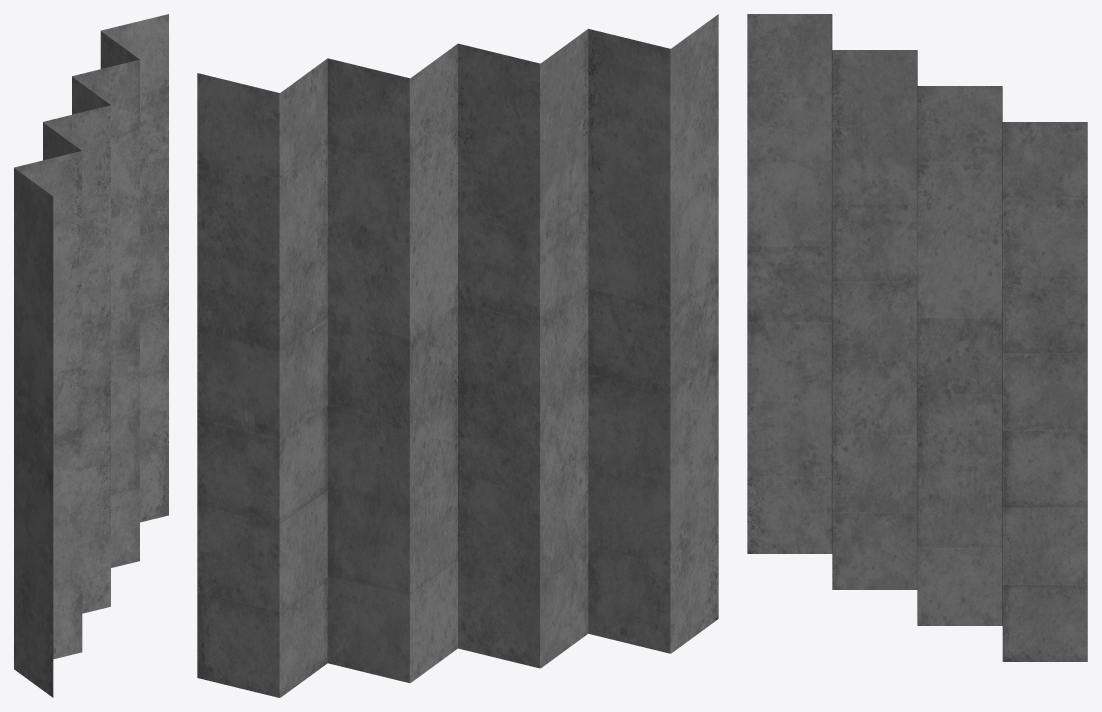
File: SM_Wall_26.fbx
3 renders of one model, left to right at view 1: azimuth 30°, elevation 25°; view 2: azimuth 150°, elevation 25°; view 3: azimuth 270°, elevation 25°, orthographic. The views are drawn at different scales.
Parts seen in each view (by area): view 1: SM_Wall_27; view 2: SM_Wall_27; view 3: SM_Wall_27.
Boxes of the visible parts, x1,y1,x2,y2 form: SM_Wall_27: (14, 14, 168, 697); SM_Wall_27: (197, 14, 718, 697); SM_Wall_27: (747, 14, 1087, 661).
Bounding box in the file's own units: 400 × 700 × 400.
